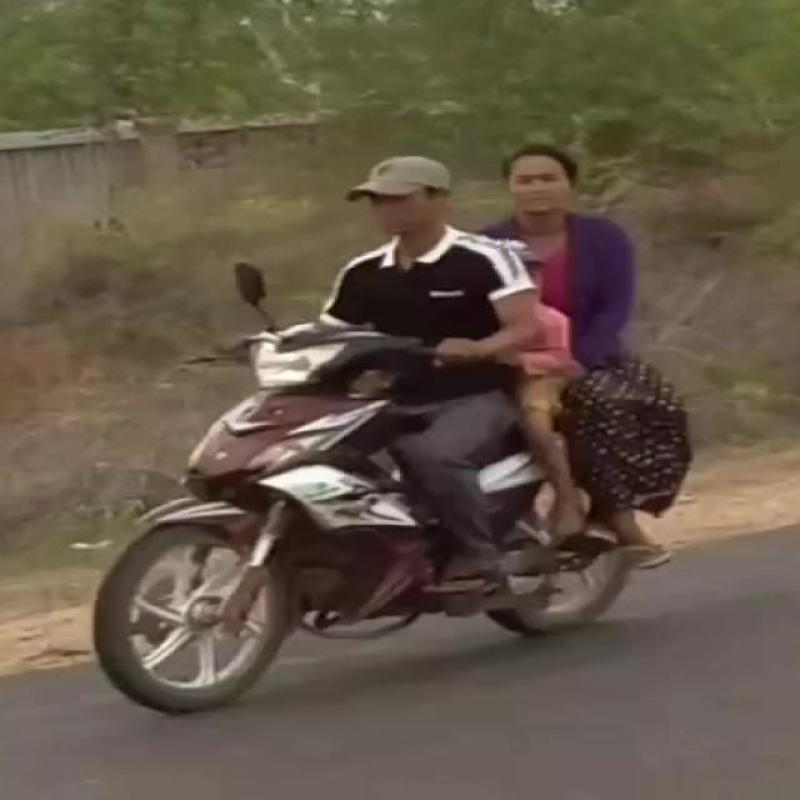nohelmet: (312, 137, 508, 268)
